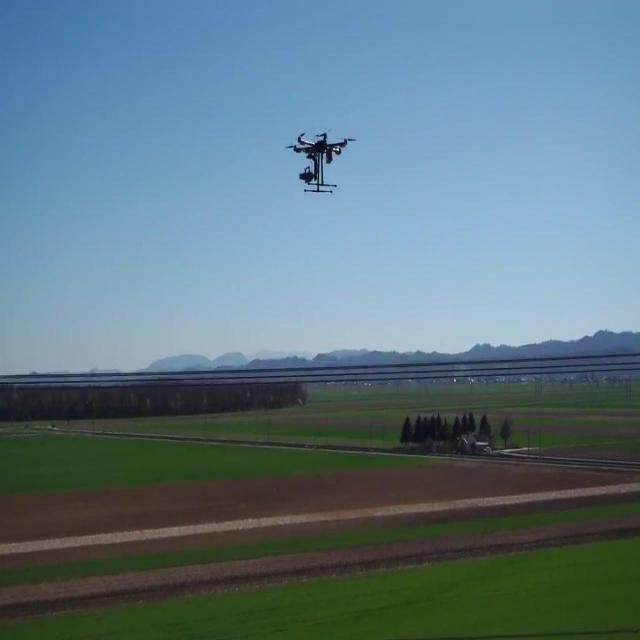UAV: (285, 129, 357, 194)
